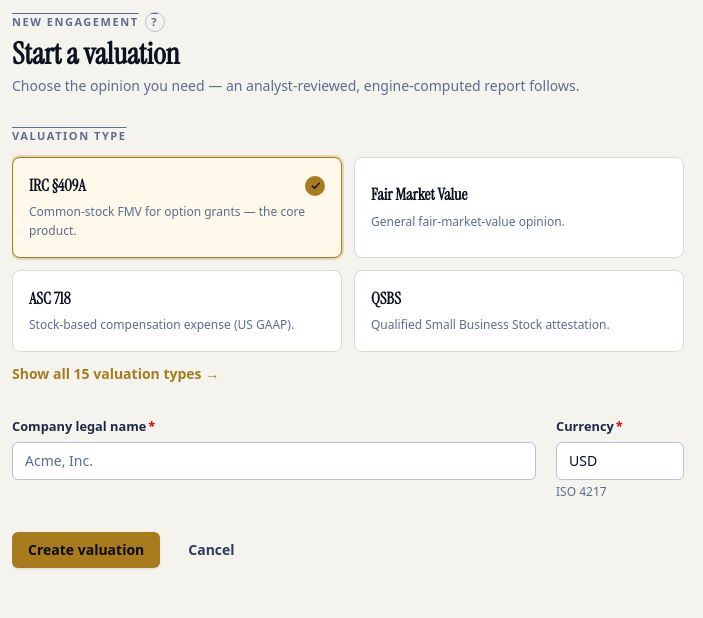
Test case: NewValuationPage › refuses a currency that is not three letters, and says so
Step 1. Type "Acme" into the field labelled "Company legal name" → point(274, 461), box [12,442,536,480]
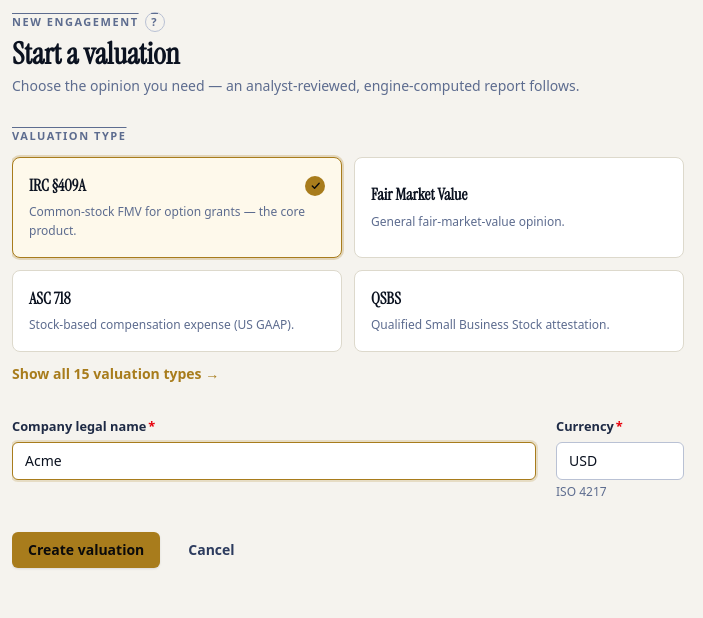
Step 2. Type "US" into the field labelled "Currency * ISO 4217" → point(620, 461), box [556,442,684,480]
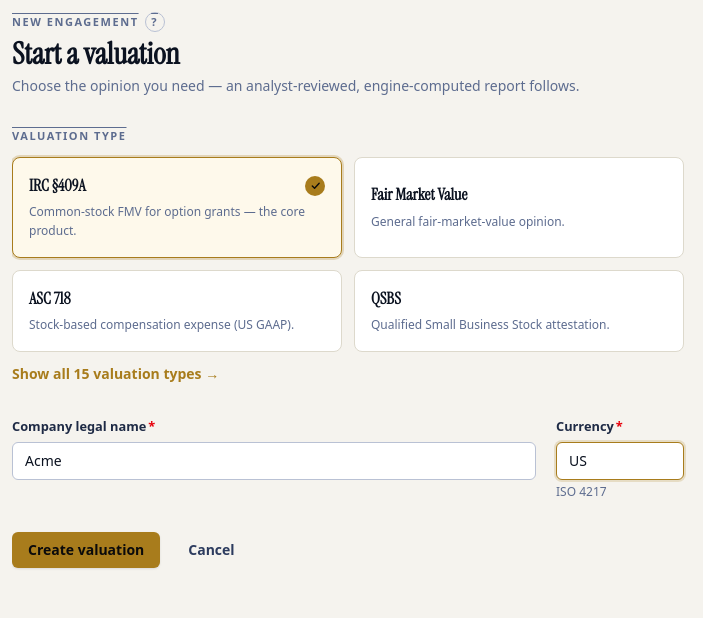
Step 3. Click the button "Create valuation" → point(86, 550), box [12,532,160,568]
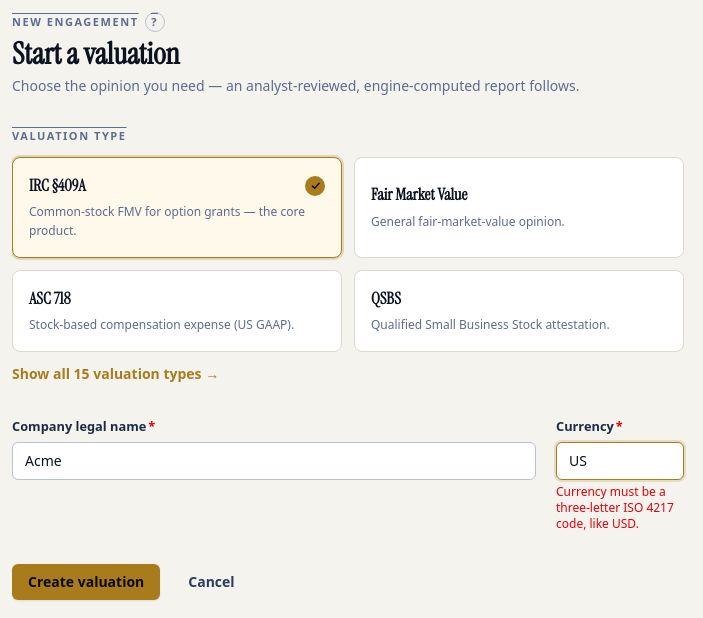
Expected: the text "Currency must be a three-letter ISO 4217 code, like USD." is shown, [556,484,684,532]
